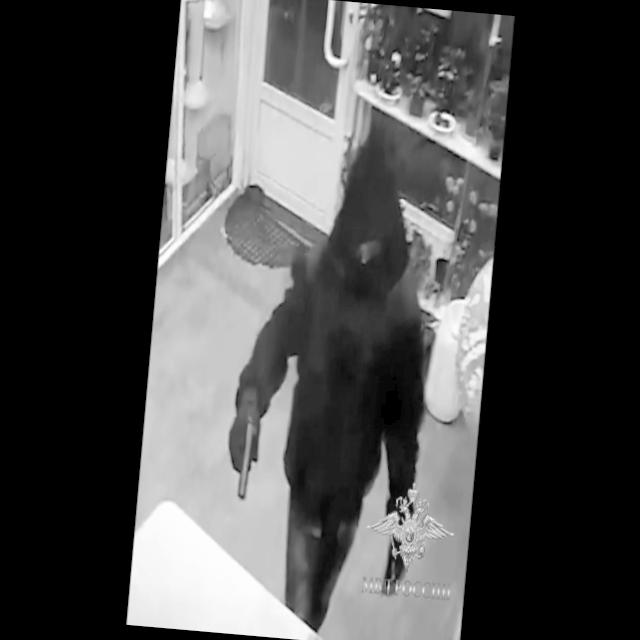gun: (226, 389, 268, 500)
person with a gun: (208, 133, 423, 640)
